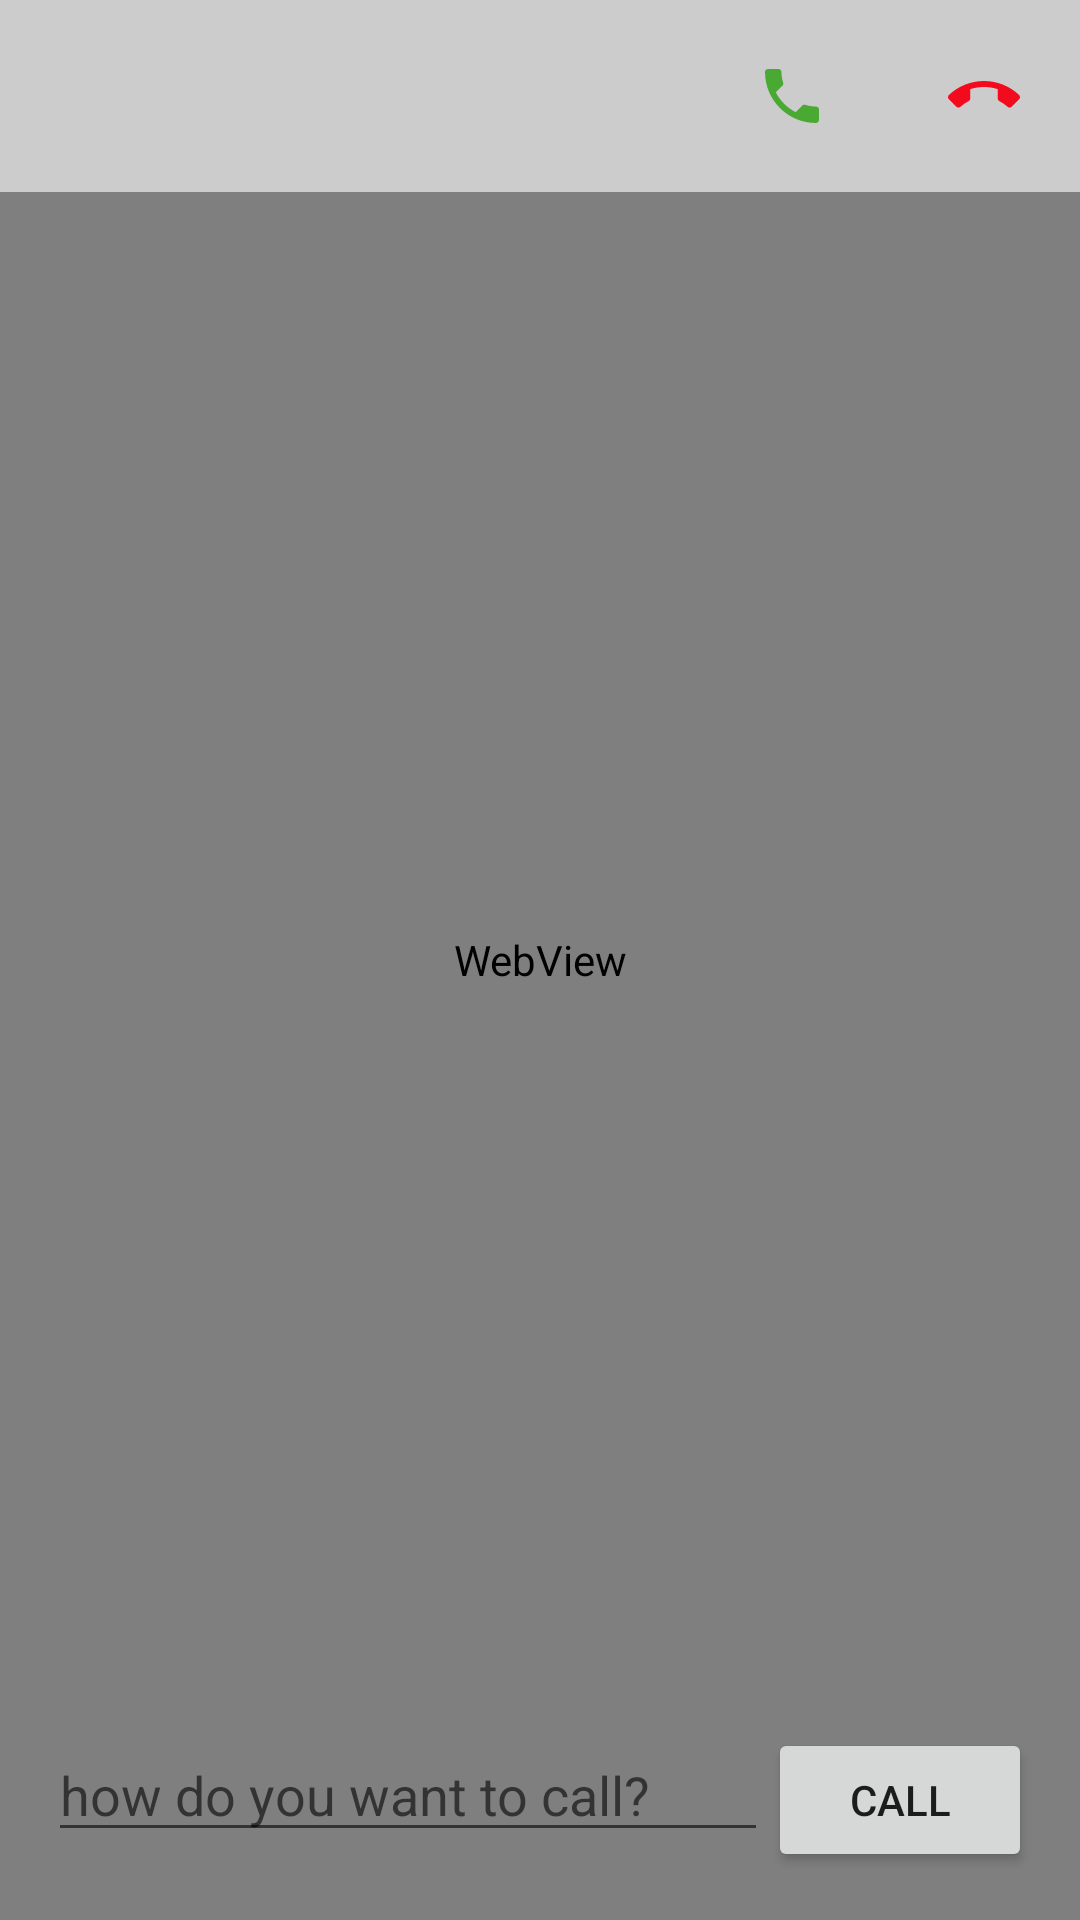

Locate icon controls on the screen. Image size 1080w x 1920h, boxes as region(x1, y1, x2, y2).
call end: region(948, 81, 1020, 108)
local phone: region(765, 69, 819, 123)
